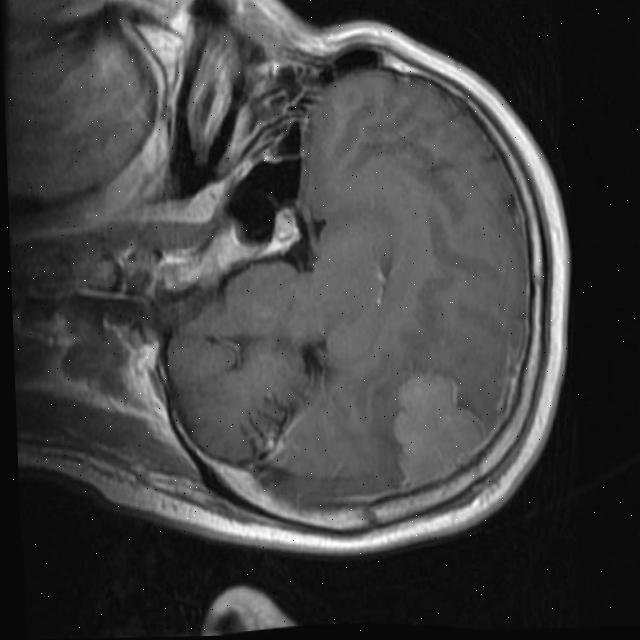Meningioma: (390, 371, 489, 486)
Pituitary: (264, 205, 304, 255)
